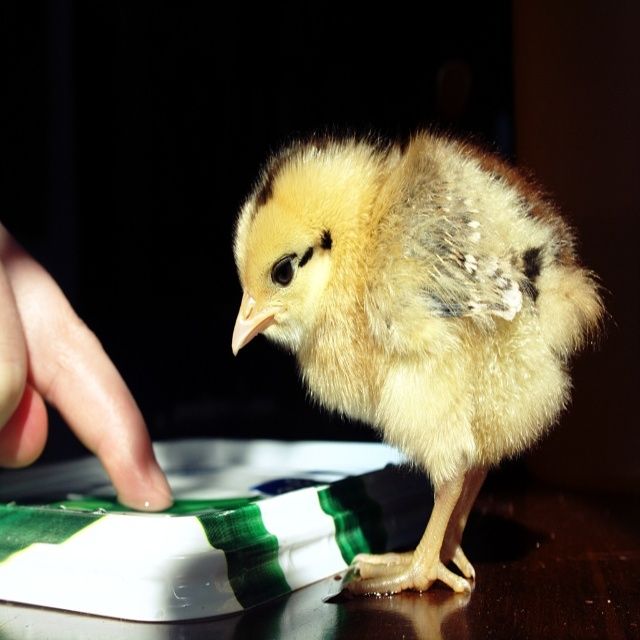Chicken: (222, 129, 595, 594)
